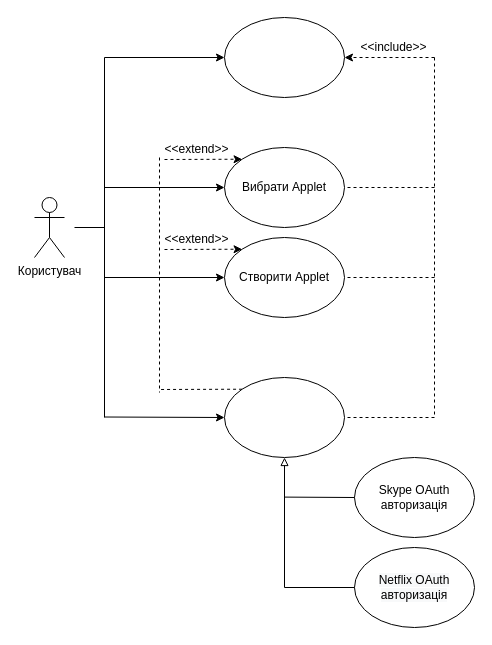
The diagram is 492 pixels wide and 645 high, and some of its shapes have lost their labels. Each missing label, with the centre of its shape:
OAuth авторизація: the point at 284,417
Реєстрація: the point at 284,57
